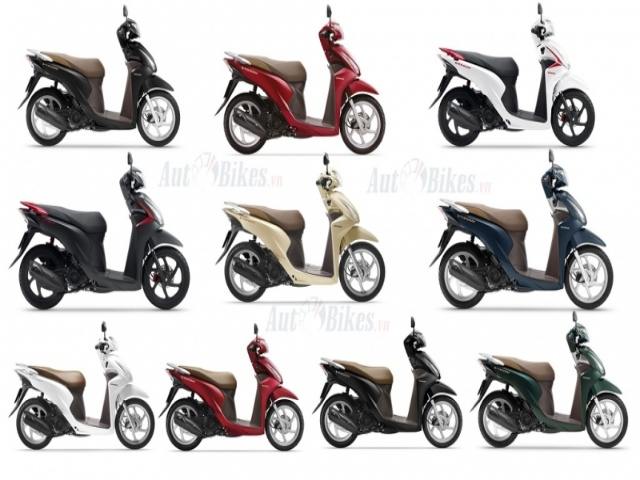Xe_may: (427, 152, 613, 308), (11, 154, 190, 312), (211, 2, 386, 154), (217, 157, 387, 305), (429, 3, 596, 148), (18, 5, 184, 149), (473, 312, 628, 451), (312, 314, 463, 449), (7, 324, 156, 451), (159, 323, 304, 450)
